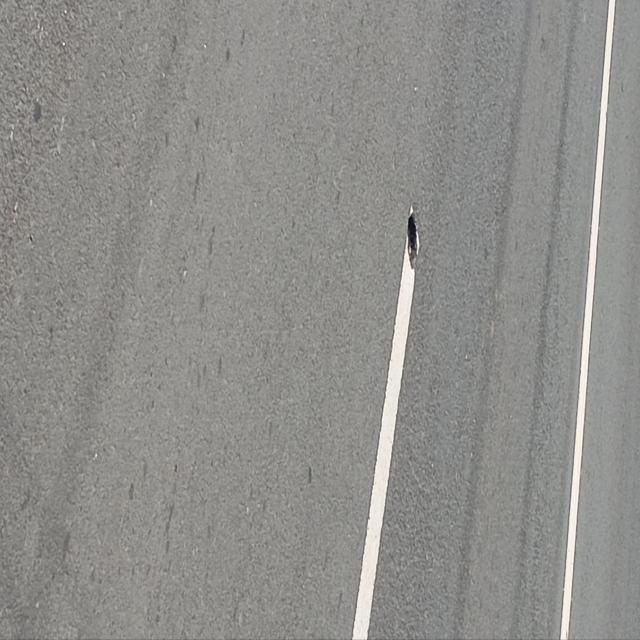pothole: (368, 174, 456, 322)
